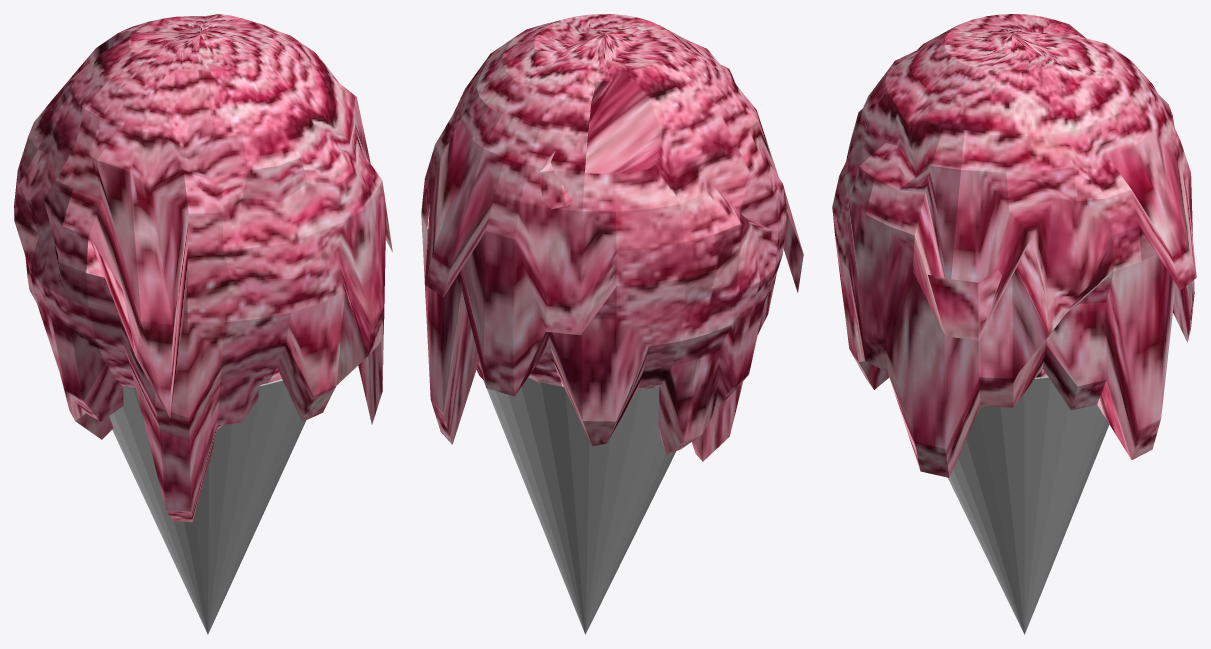
File: icecream.fbx
3 views of the same model, side by side, from view 1: azimuth 30°, elevation 25°; view 2: azimuth 150°, elevation 25°; view 3: azimuth 270°, elevation 25° (orthographic). The views are drawn at different scales.
Visible parts, largest first — view 1: Sphere, Cone; view 2: Sphere, Cone; view 3: Sphere, Cone.
Boxes of the visible parts, x1=… form: Sphere: x1=14, y1=14, x2=392, y2=522; Cone: x1=109, y1=379, x2=306, y2=634; Sphere: x1=421, y1=14, x2=803, y2=461; Cone: x1=483, y1=377, x2=675, y2=634; Sphere: x1=832, y1=14, x2=1196, y2=477; Cone: x1=948, y1=376, x2=1109, y2=634.
Bounding box in the file's own units: 270 × 483 × 269.
